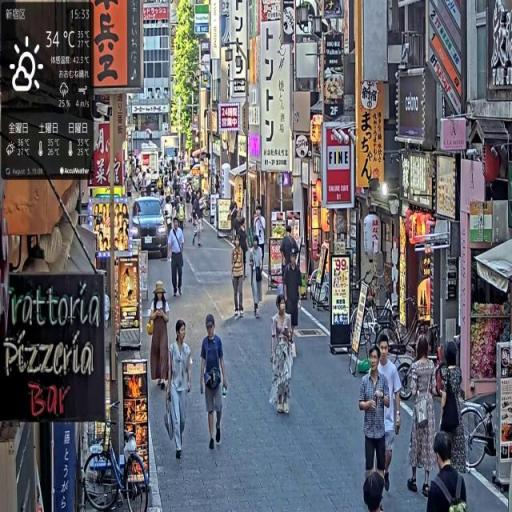person: (408, 335, 438, 498), (360, 347, 391, 479), (379, 335, 403, 492), (202, 315, 229, 450), (168, 321, 193, 460), (442, 343, 467, 474), (428, 432, 468, 512), (271, 296, 294, 415), (152, 282, 171, 391), (284, 249, 303, 340), (169, 219, 185, 298), (250, 237, 263, 319), (232, 237, 245, 318), (281, 226, 299, 276), (364, 472, 385, 512), (237, 219, 250, 280), (254, 206, 267, 262), (194, 193, 203, 248), (230, 200, 239, 240), (165, 197, 174, 232), (178, 197, 187, 231), (201, 192, 208, 232), (137, 169, 146, 196), (234, 210, 243, 237), (187, 185, 193, 223), (146, 169, 153, 197), (127, 176, 135, 199), (159, 188, 167, 211), (158, 168, 164, 196)
